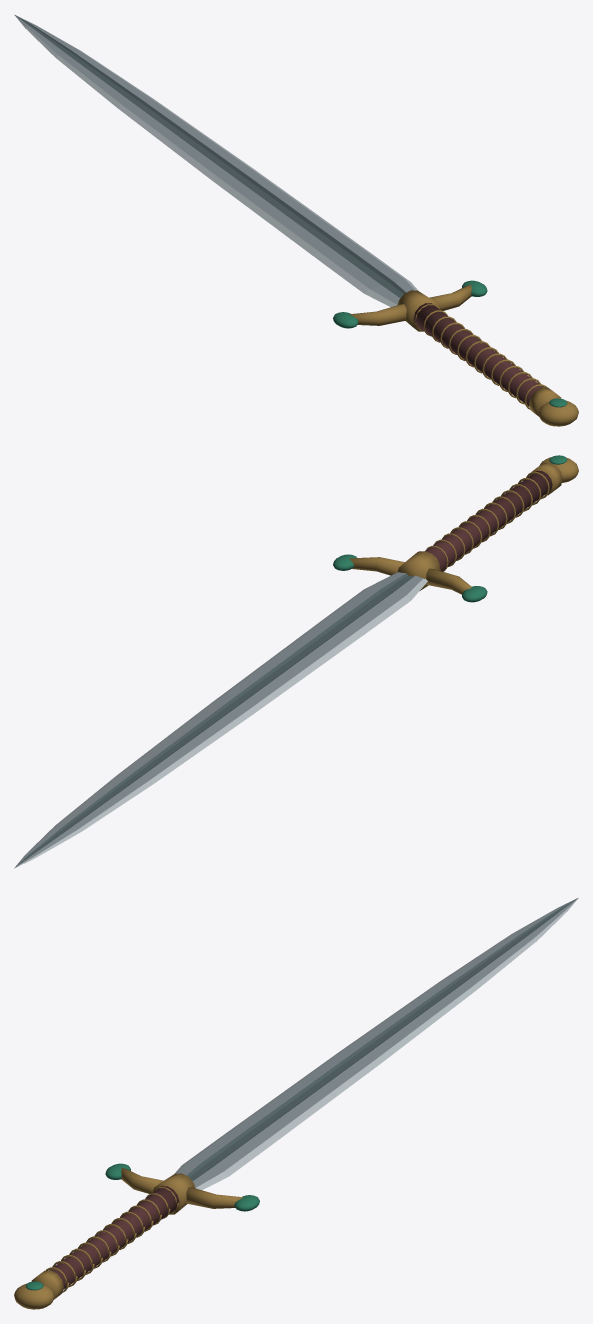
The model's file is relic.glb.
3 views of the same model, one above another, from view 1: azimuth 30°, elevation 25°; view 2: azimuth 150°, elevation 25°; view 3: azimuth 330°, elevation 25° (orthographic).
Parts seen in each view (by area): view 1: MV_relic; view 2: MV_relic; view 3: MV_relic.
Boxes of the visible parts, box(x1,y1,x2,y2) form: MV_relic: box(14, 15, 578, 426); MV_relic: box(14, 455, 578, 868); MV_relic: box(14, 898, 578, 1309).
Bounding box in the file's own units: 0.266 × 0.054 × 1.71.
